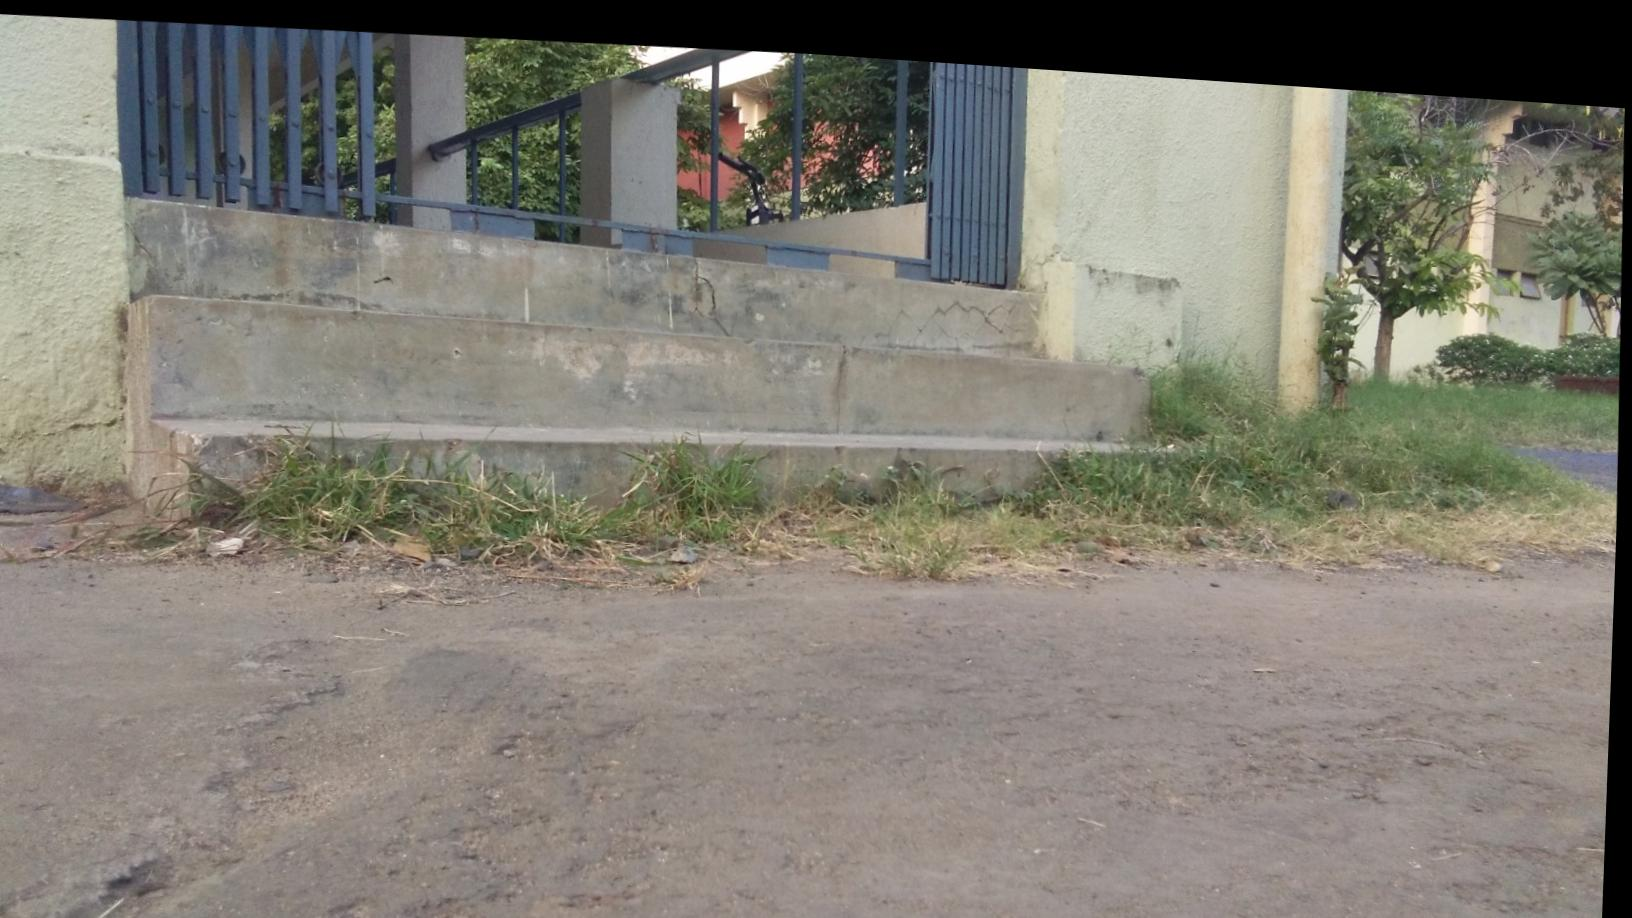Bench: (136, 189, 1138, 530)
